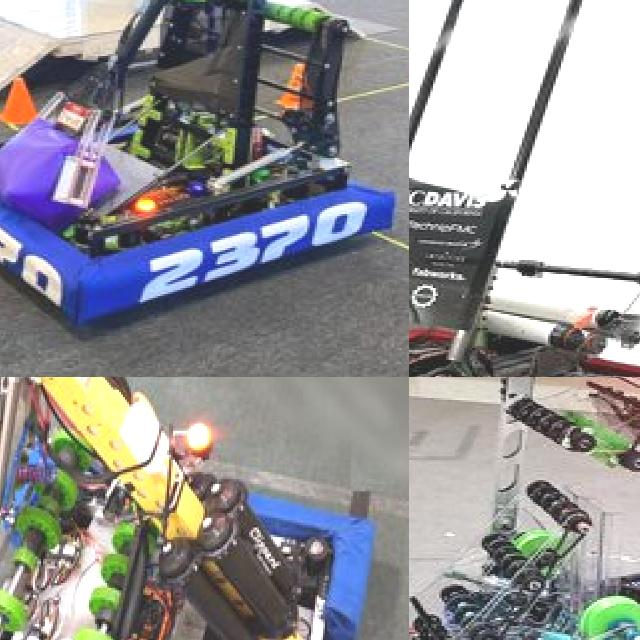FRC-Robots: (0, 0, 409, 330), (0, 377, 399, 640), (409, 0, 640, 377), (409, 377, 640, 640)
